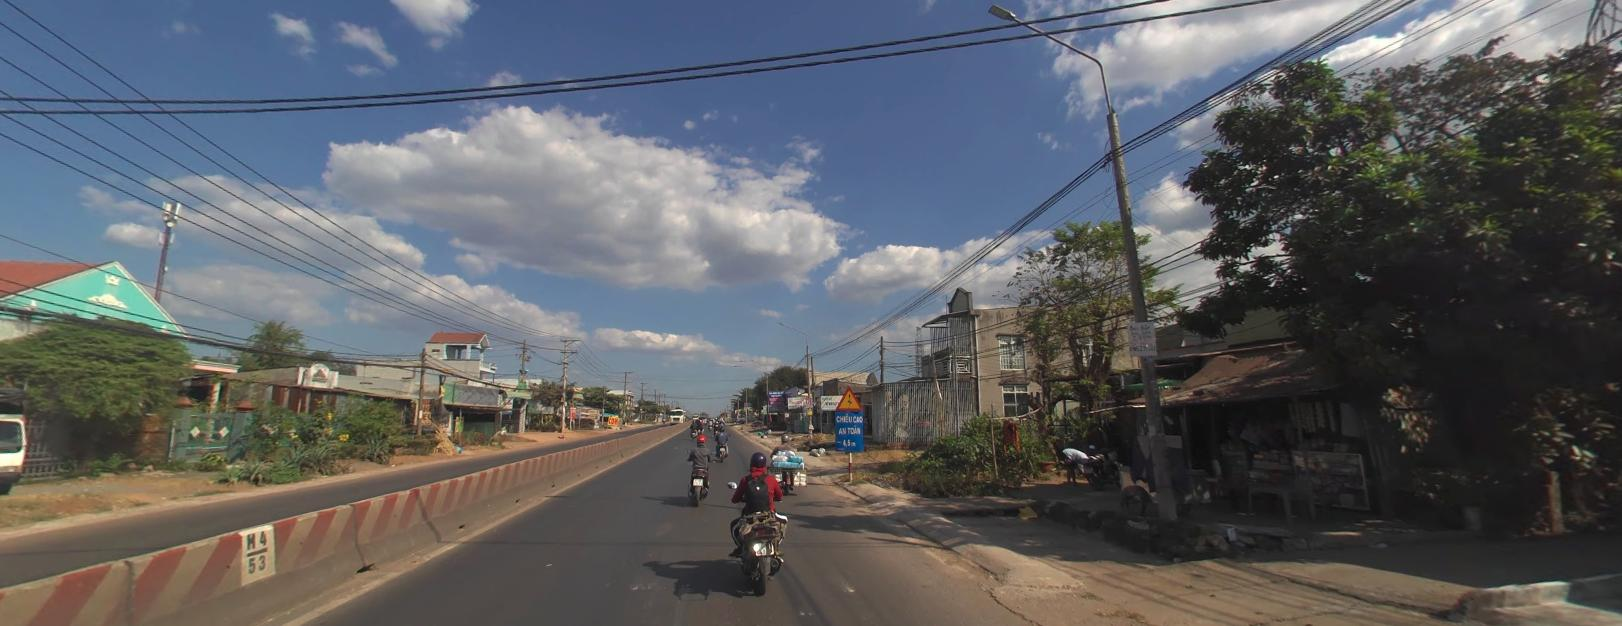Nguy hiem: (834, 384, 861, 409)
